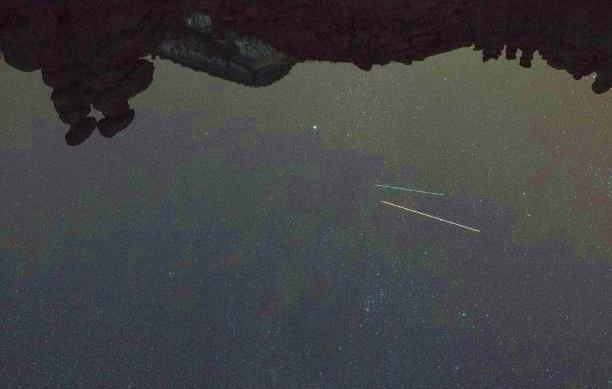meteorite: (369, 200, 488, 242), (367, 180, 452, 199)
